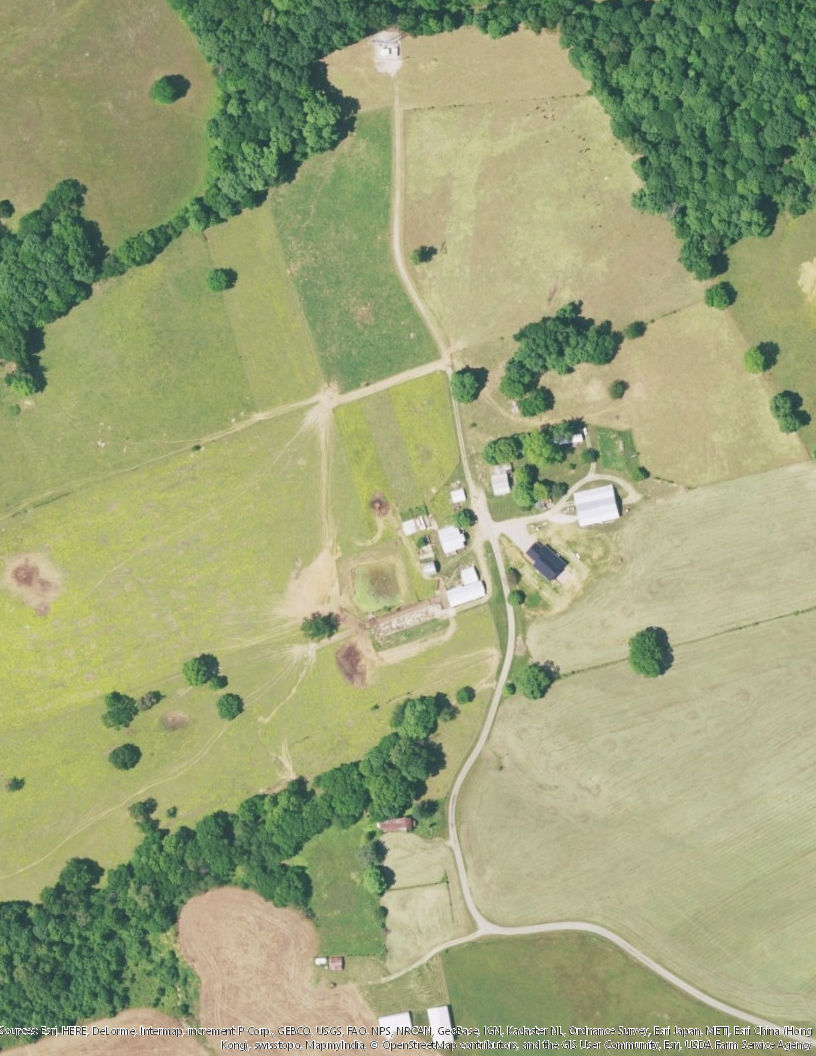cafo: (370, 597, 442, 639), (443, 563, 491, 609)
